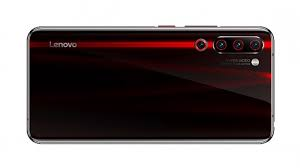lenovo: (22, 22, 280, 147)
